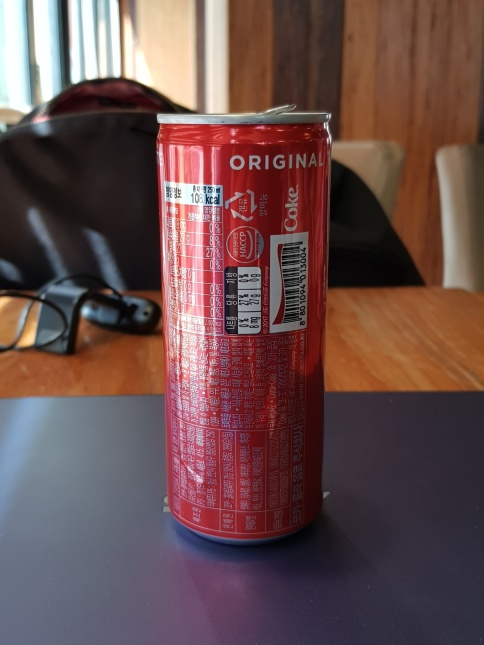Can: (152, 102, 333, 552)
